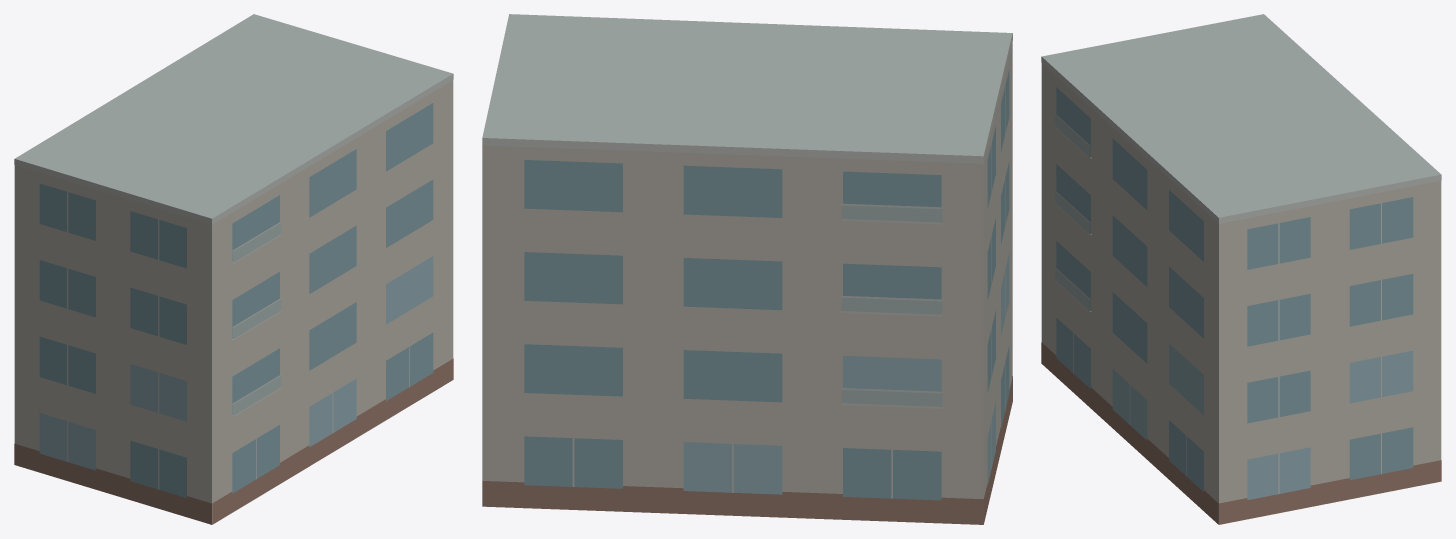
Rendered from survey-upis-32741382.glb.
3 views of the same model, side by side, from view 1: azimuth 30°, elevation 25°; view 2: azimuth 150°, elevation 25°; view 3: azimuth 270°, elevation 25° (orthographic). The views are drawn at different scales.
Parts seen in each view (by area): view 1: survey-upis-32741382.tmp; view 2: survey-upis-32741382.tmp; view 3: survey-upis-32741382.tmp.
Boxes of the visible parts, box(x1,y1,x2,y2) form: survey-upis-32741382.tmp: box(14, 14, 453, 524); survey-upis-32741382.tmp: box(482, 14, 1012, 524); survey-upis-32741382.tmp: box(1041, 14, 1441, 524).
Size of the model in its own units: 17.38 by 12.2 by 14.41.
